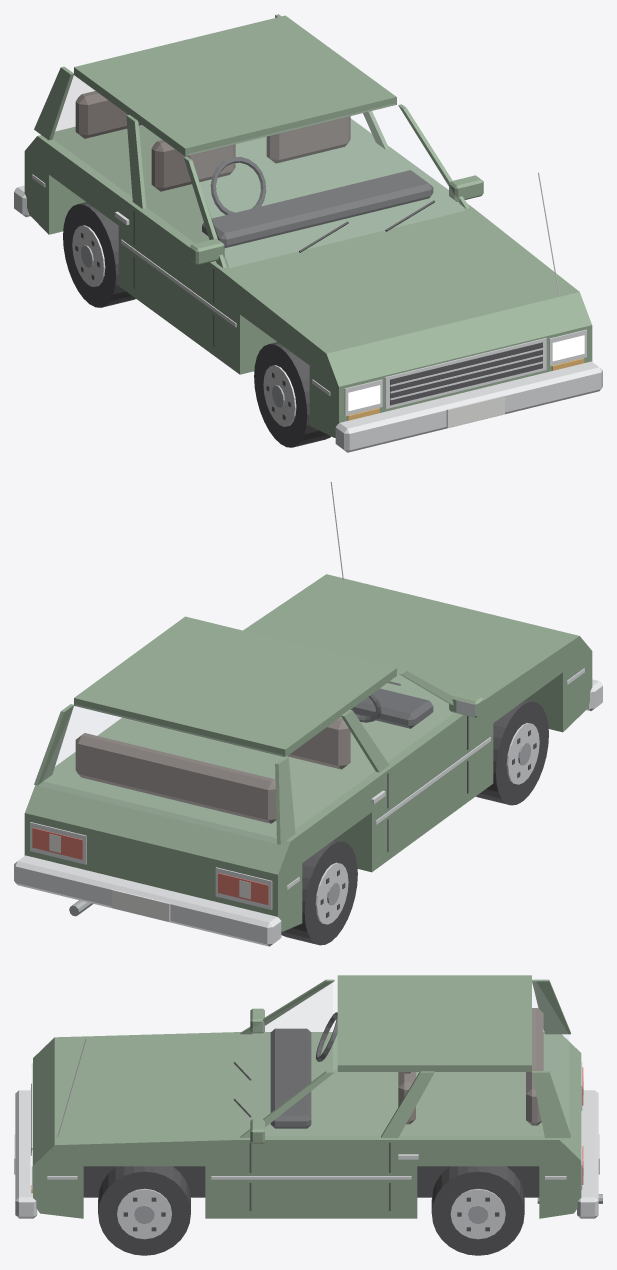
File: car_hatch_g.glb
3 views of the same model, one above another, from view 1: azimuth 30°, elevation 25°; view 2: azimuth 150°, elevation 25°; view 3: azimuth 270°, elevation 25° (orthographic). The views are drawn at different scales.
Parts seen in each view (by area): view 1: car_hatch_g_car_g, car_hatch_g_glass, car_hatch_g_chrome, car_hatch_g_dark, car_hatch_g_rubber, car_hatch_g_vinyl, car_hatch_g_lamp_glass, car_hatch_g_paint_w; view 2: car_hatch_g_car_g, car_hatch_g_glass, car_hatch_g_chrome, car_hatch_g_vinyl, car_hatch_g_rubber, car_hatch_g_dark, car_hatch_g_neon_r, car_hatch_g_paint_w, car_hatch_g_steel; view 3: car_hatch_g_car_g, car_hatch_g_glass, car_hatch_g_rubber, car_hatch_g_chrome, car_hatch_g_dark, car_hatch_g_vinyl, car_hatch_g_steel.
Boxes of the visible parts, <box> form: car_hatch_g_car_g: <box>24,14,592,437</box>; car_hatch_g_glass: <box>53,72,464,267</box>; car_hatch_g_chrome: <box>14,172,602,452</box>; car_hatch_g_dark: <box>75,156,542,420</box>; car_hatch_g_rubber: <box>63,202,330,447</box>; car_hatch_g_vinyl: <box>75,91,350,191</box>; car_hatch_g_lamp_glass: <box>348,335,584,410</box>; car_hatch_g_paint_w: <box>446,395,504,427</box>; car_hatch_g_car_g: <box>24,574,592,931</box>; car_hatch_g_glass: <box>41,672,452,842</box>; car_hatch_g_chrome: <box>14,481,602,946</box>; car_hatch_g_vinyl: <box>75,718,350,823</box>; car_hatch_g_rubber: <box>281,699,548,945</box>; car_hatch_g_dark: <box>320,681,536,917</box>; car_hatch_g_neon_r: <box>32,828,268,904</box>; car_hatch_g_paint_w: <box>49,833,250,921</box>; car_hatch_g_steel: <box>69,742,530,916</box>; car_hatch_g_car_g: <box>33,975,581,1218</box>; car_hatch_g_glass: <box>239,982,568,1135</box>; car_hatch_g_rubber: <box>83,1166,539,1255</box>; car_hatch_g_chrome: <box>15,1038,598,1239</box>; car_hatch_g_dark: <box>31,1012,499,1231</box>; car_hatch_g_vinyl: <box>398,1008,543,1125</box>; car_hatch_g_steel: <box>134,1194,602,1223</box>.
Bounding box in the file's own units: 2 × 1.6 × 4.06.
